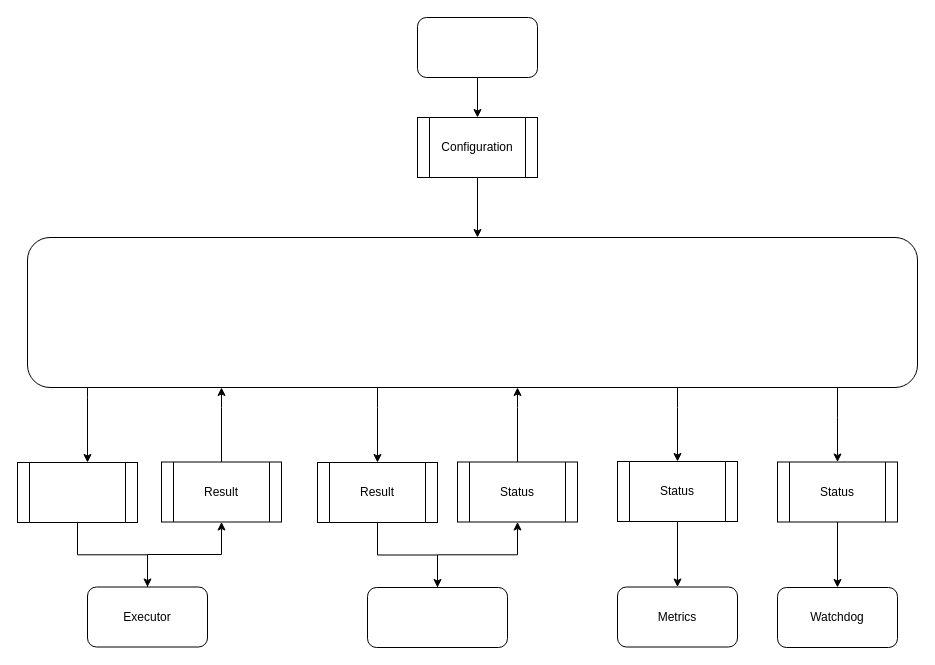
Some shapes in this 935 by 665 pixel diagram are drawn without their labels. The shapes that lost their labels are listed below. From the top down, each one's box as (x1, y1, x2, y2) in pixels, then its label:
(416, 16, 538, 78): Main
(26, 236, 918, 388): Manager
(16, 462, 138, 522): Job
(366, 586, 508, 648): Status Manager
